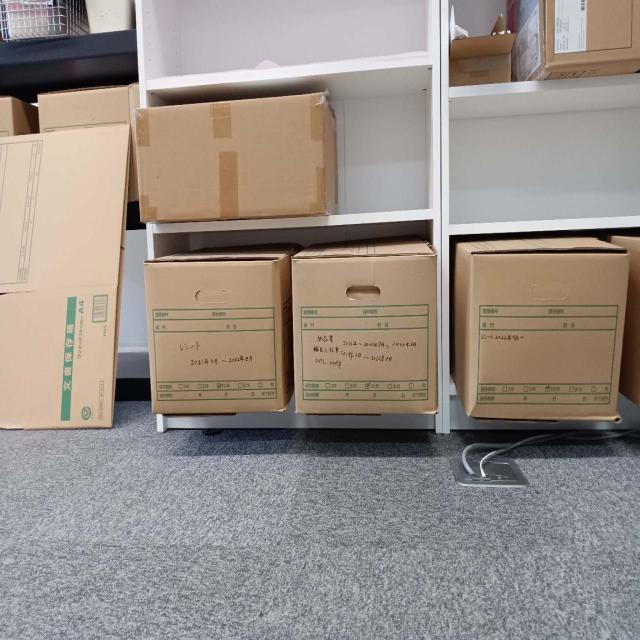box: (459, 238, 619, 423), (136, 92, 335, 221), (293, 250, 437, 415), (145, 260, 283, 414)
